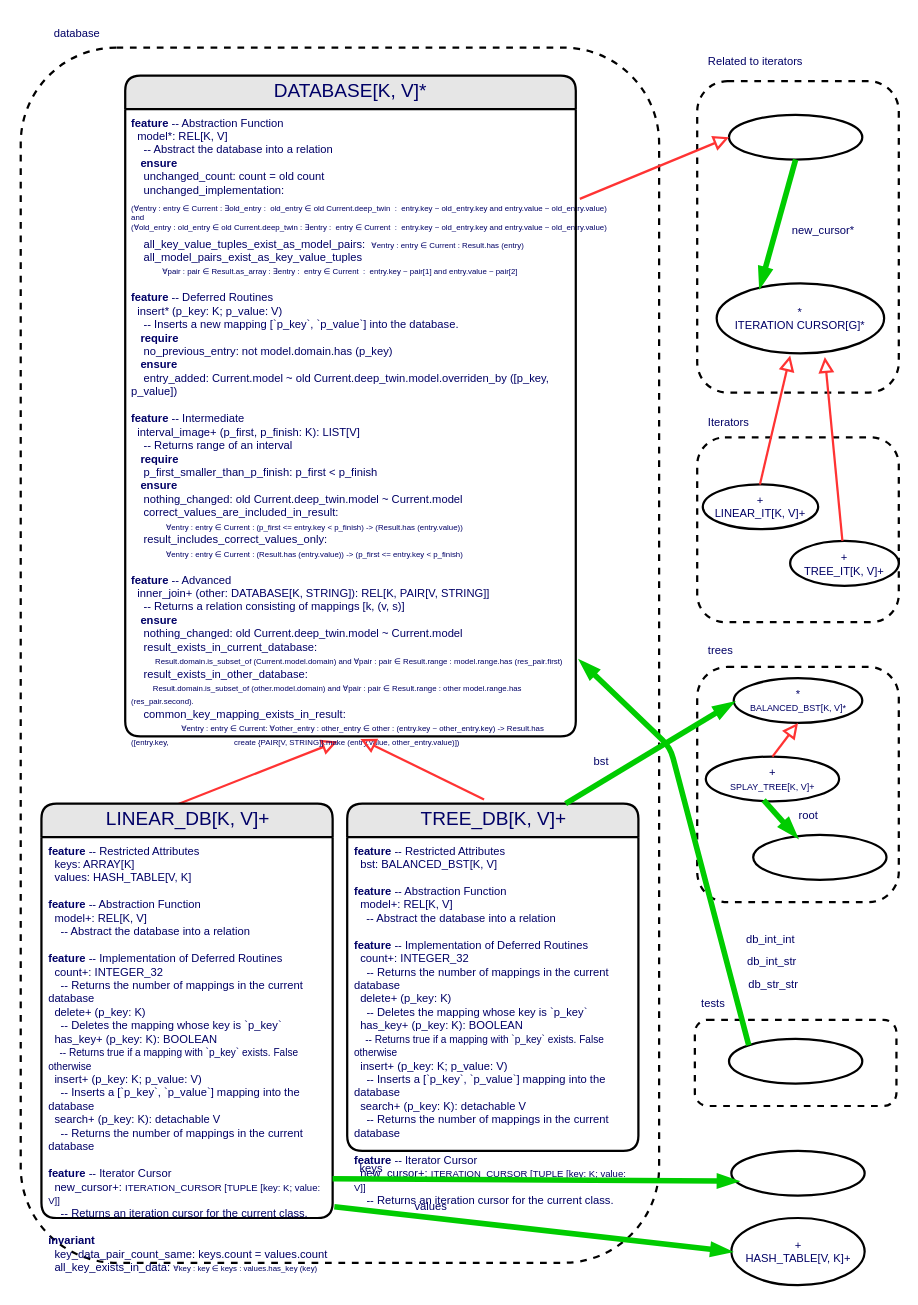
Some shapes in this 918 by 1305 pixel diagram are drawn without their labels. Here are the shapes that lost their labels. From the top down, the centre of each, then its label:
At (795,136): "* ITERABLE[G]*".
At (819,856): "+ TREE_NODE[K, V]+".
At (795,1060): "+ STARTER_TESTS".
At (797,1172): "+ ARRAY[K]+".
